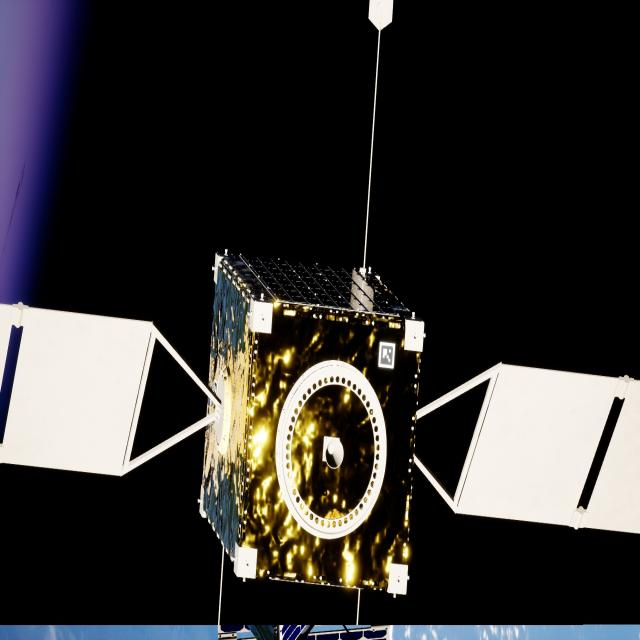medium_debris: (0, 251, 640, 593)
